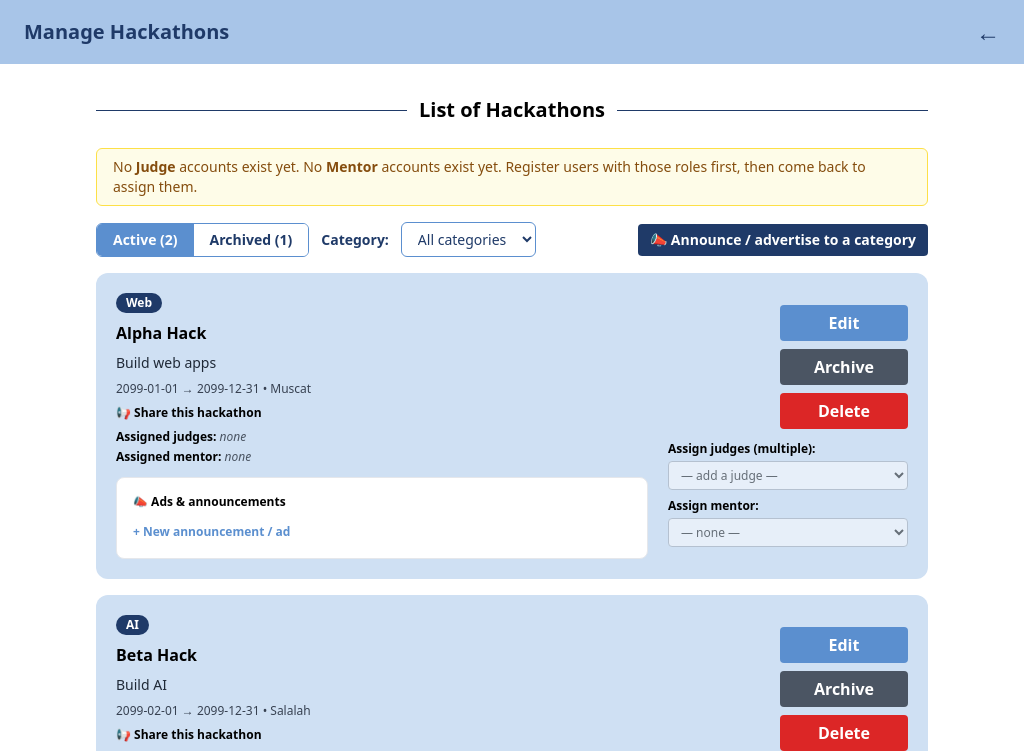
it: Manage hackathons › shows ended hackathons on the Archived tab as 'Ended'
Expected: the heading "Alpha Hack" is shown, [116,322,206,344]
Click the button "Archived (1)" at (251, 240), box [194,224,308,256]
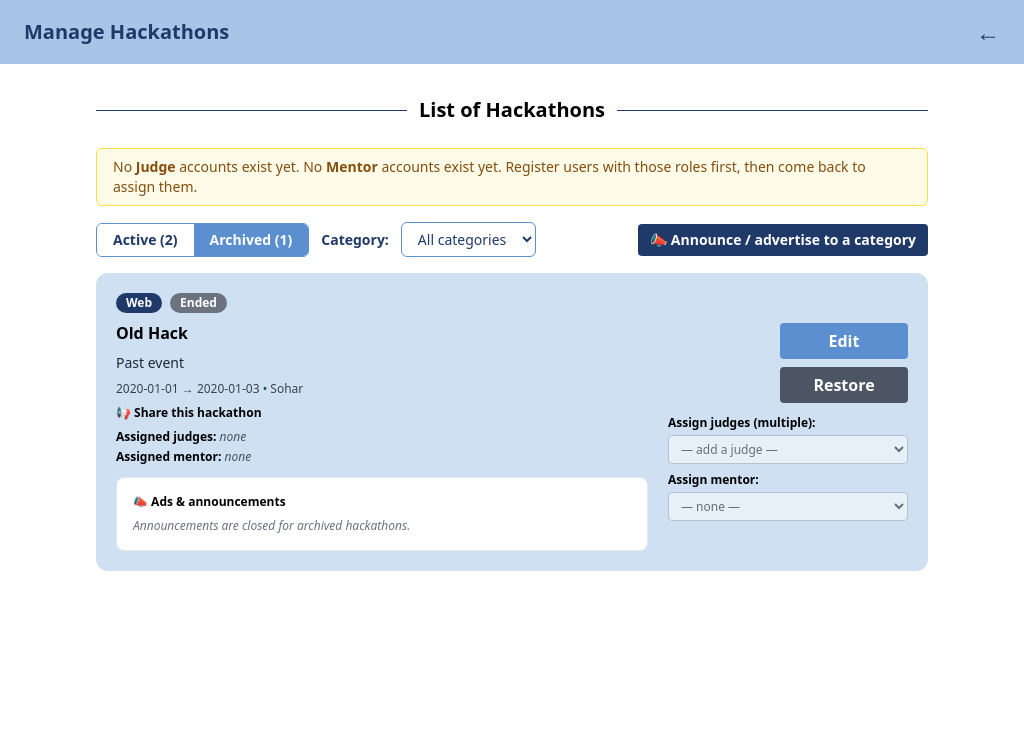
Now the text "Ended" is shown, box [170,293,227,313]
